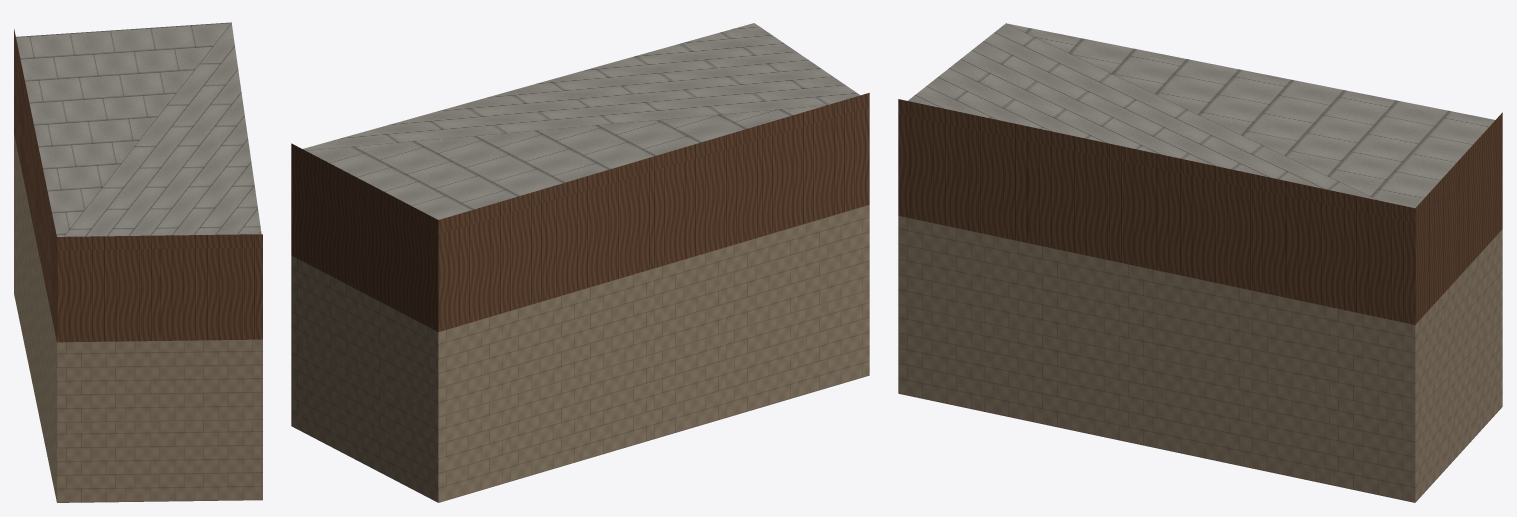
File: bld_c35_-27_452.gltf
The picture shows the model from 3 angles, left to right: view 1: azimuth 30°, elevation 25°; view 2: azimuth 150°, elevation 25°; view 3: azimuth 270°, elevation 25°; orthographic projection. The views are drawn at different scales.
Visible parts, largest first — view 1: bld_c35_-27_452; view 2: bld_c35_-27_452; view 3: bld_c35_-27_452.
Part boxes in pixels (x1,y1,x2,y2): bld_c35_-27_452: (14, 22, 262, 502); bld_c35_-27_452: (291, 23, 869, 502); bld_c35_-27_452: (898, 23, 1502, 502).
Size of the model in its own units: 10.72 by 7.58 by 14.09.
Materials: 4 (4 with a texture image).
